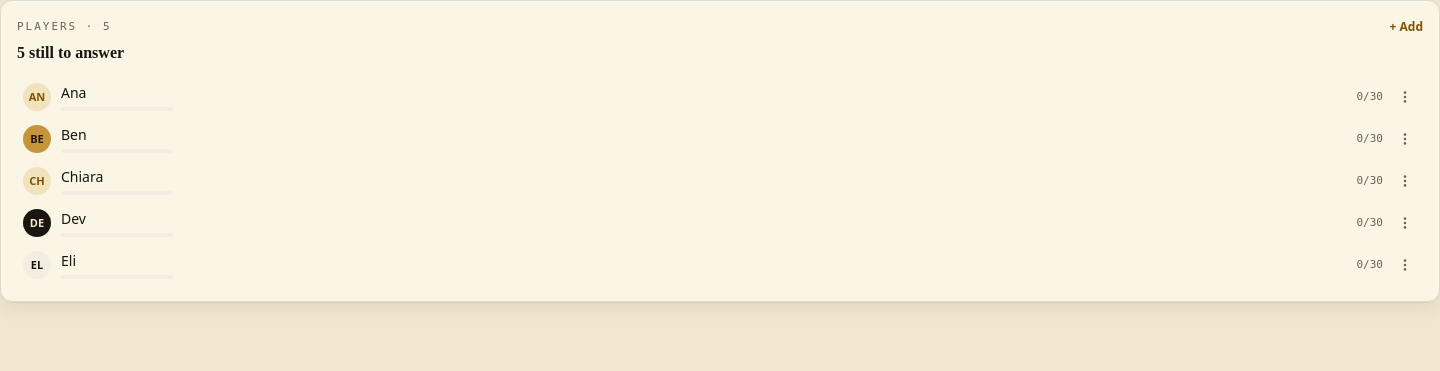
Test: Players › closes the form with Escape and returns focus to + Add
Click the button with aria-label "Add player".
click(1406, 27)  # box x1=1390 y1=19 x2=1423 y2=35
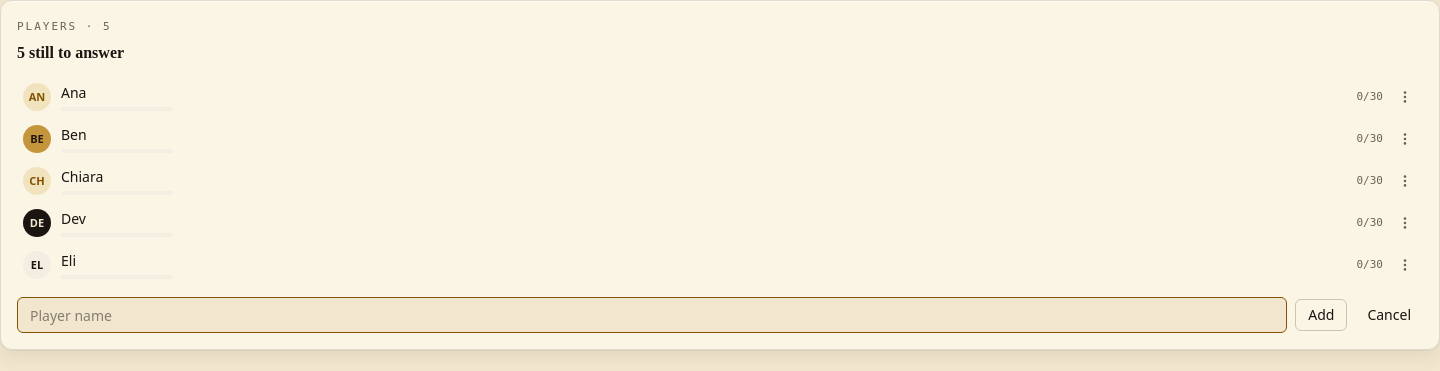
Type keys "Fay{Enter}{Escape}"
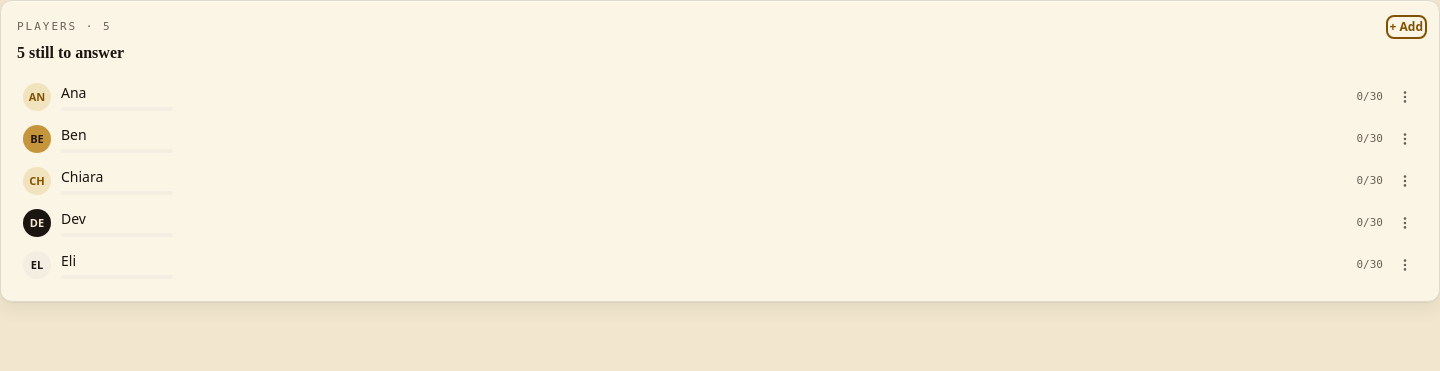
Now the field is gone
